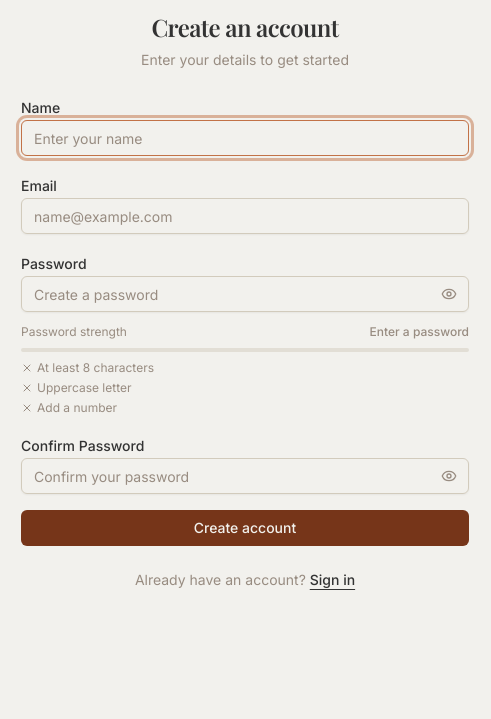
RegisterForm › validation › validates password minimum length
Type "123" into the password field labelled "Password" at [245, 294], box 21,276 -> 469,312
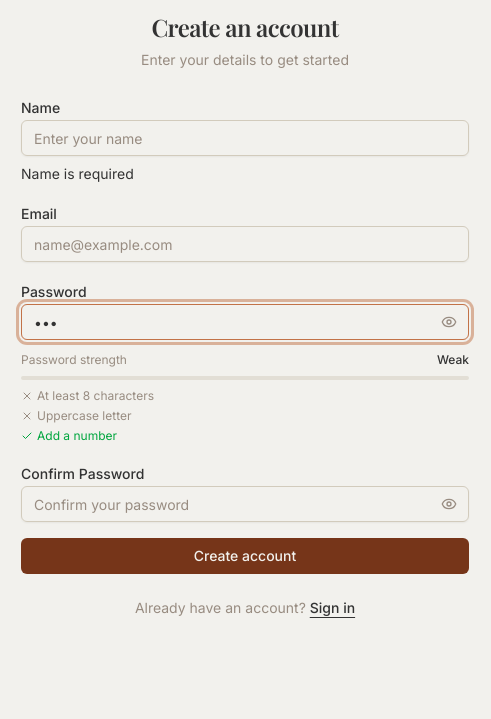
Click the button "Create account" at [245, 556], box 21,538 -> 469,574
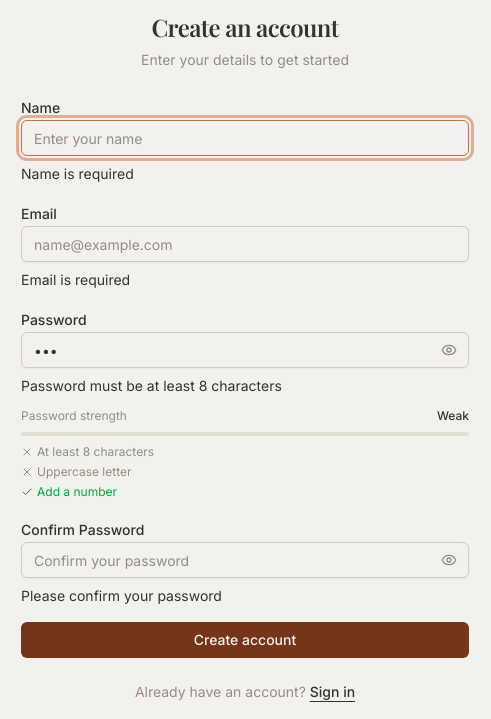
Check: the text "Password must be at least 8 characters" is shown, box 21,377 -> 282,394
